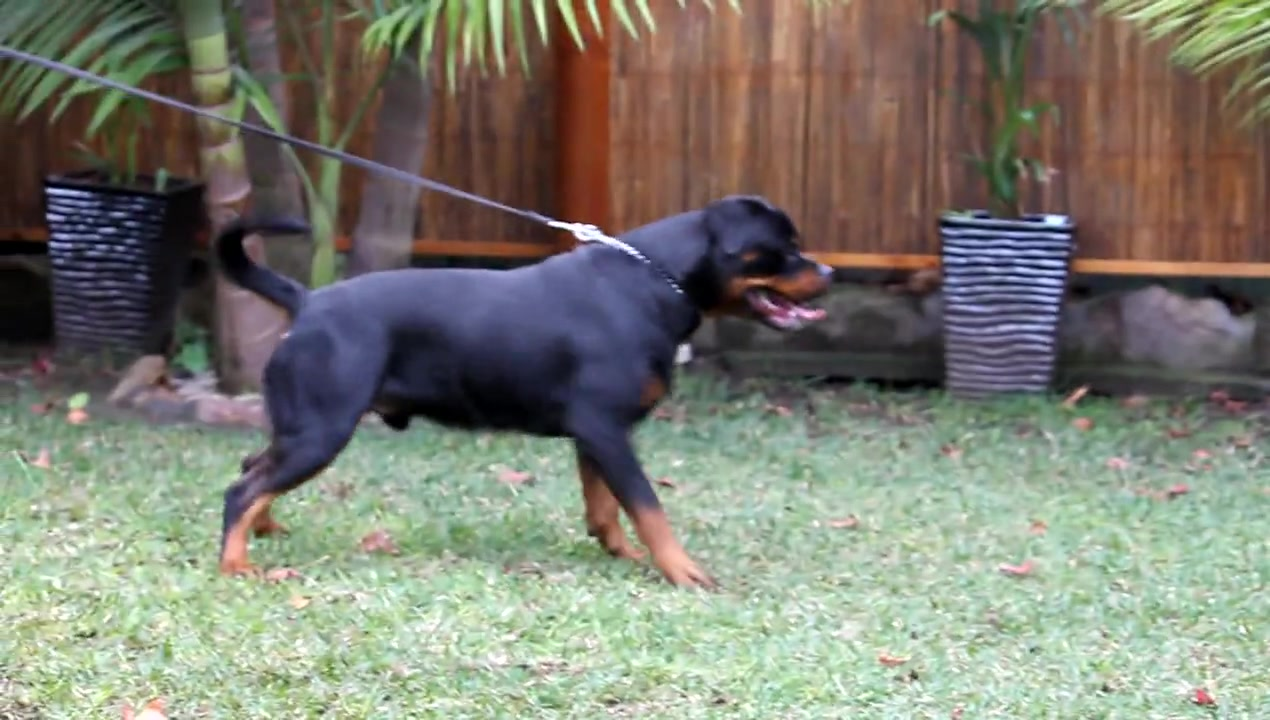dog: (217, 194, 838, 593)
